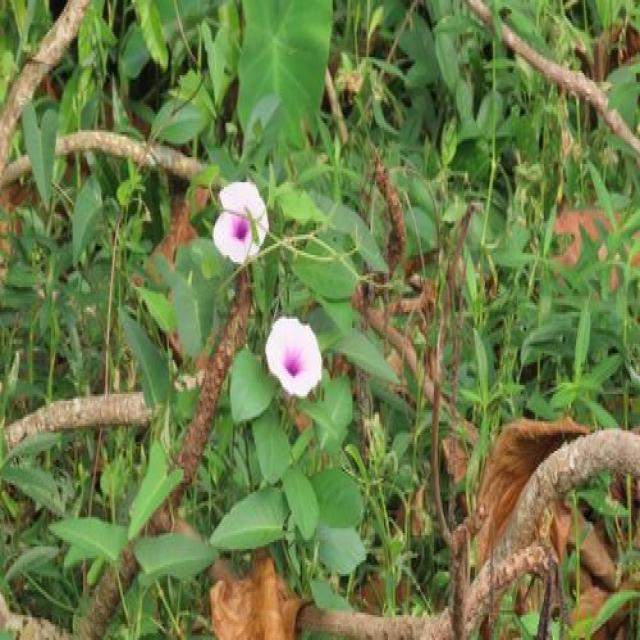ipomoea: (209, 175, 271, 271), (261, 312, 325, 403)
